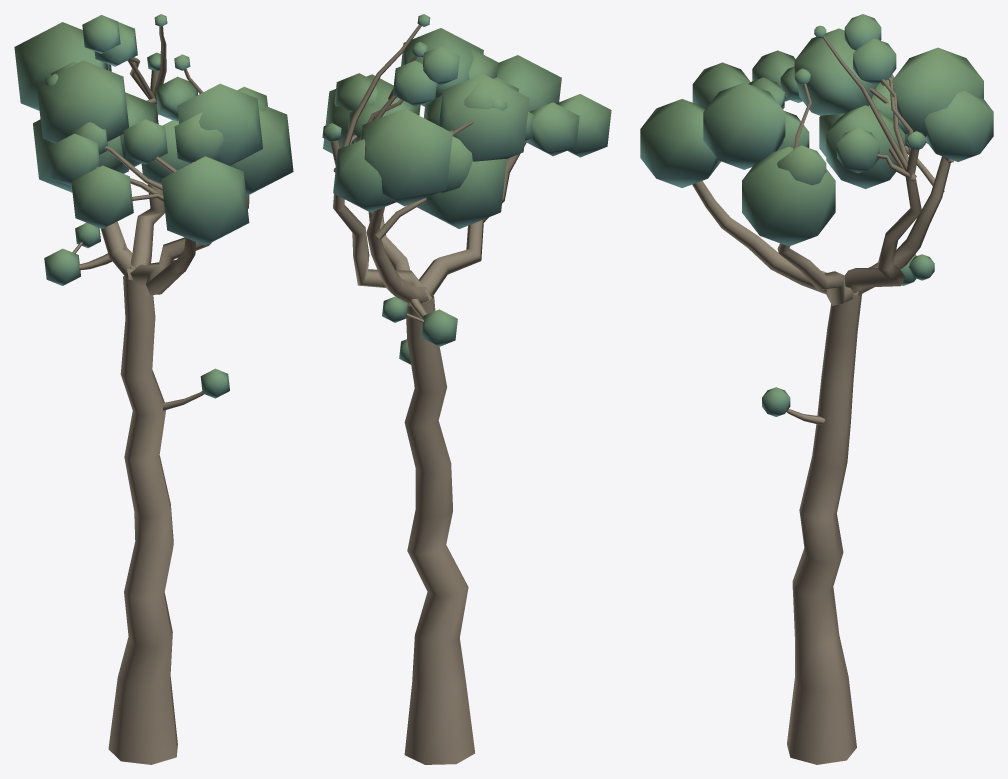
The model's file is seed_tree_h.glb.
3 renders of one model, left to right at view 1: azimuth 30°, elevation 25°; view 2: azimuth 150°, elevation 25°; view 3: azimuth 270°, elevation 25°, orthographic.
Visible parts, largest first — view 1: seed_tree_h_LOD0; view 2: seed_tree_h_LOD0; view 3: seed_tree_h_LOD0.
Boxes of the visible parts, x1=… form: seed_tree_h_LOD0: x1=14, y1=14, x2=293, y2=764; seed_tree_h_LOD0: x1=322, y1=14, x2=611, y2=764; seed_tree_h_LOD0: x1=640, y1=14, x2=993, y2=764.
Size of what is drawn, in the model's own units: 3.96 by 11.32 by 4.96.
